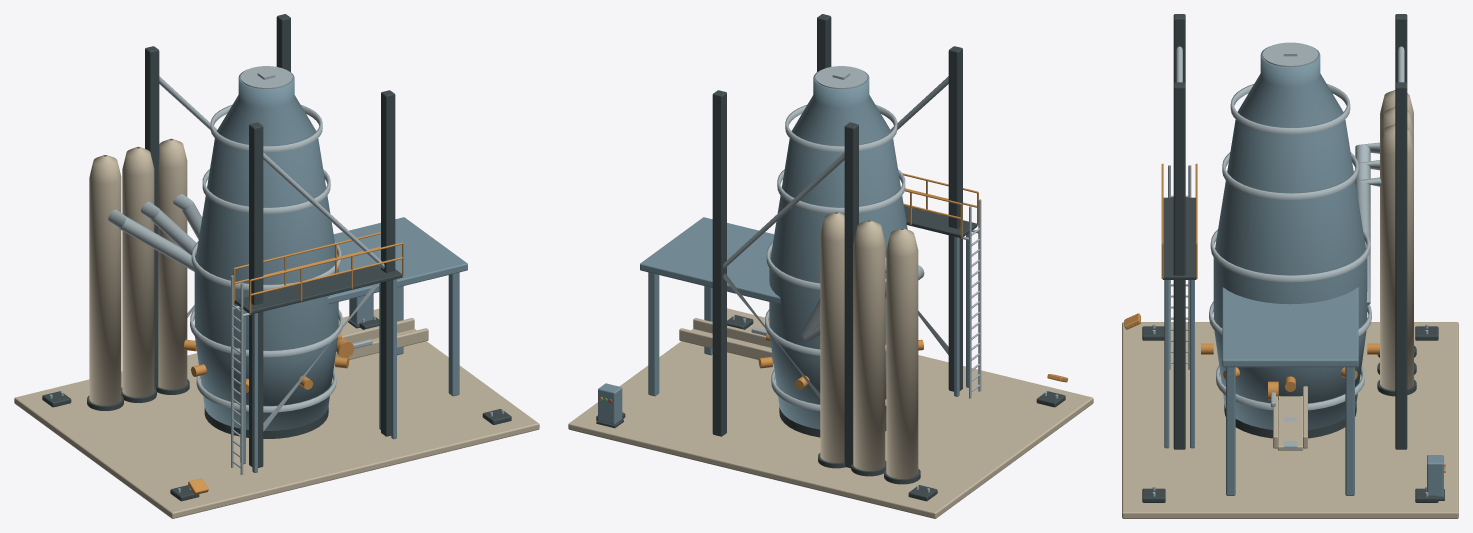
3 renders of one model, left to right at view 1: azimuth 30°, elevation 25°; view 2: azimuth 150°, elevation 25°; view 3: azimuth 270°, elevation 25°, orthographic. The views are drawn at different scales.
Parts seen in each view (by area): view 1: foundation, furnace_shell, hot_blast_stove_0, hot_blast_stove_1, hot_blast_stove_2, cast_house_roof, tower_leg_1.7_2.6, tower_leg_-2.1_2.6, furnace_gallery_deck, tower_leg_-2.1_-2.6, tower_cross_2.6, cast_house_post_1.4 (+16 smaller); view 2: foundation, furnace_shell, hot_blast_stove_0, hot_blast_stove_1, hot_blast_stove_2, cast_house_roof, tower_leg_1.7_-2.6, tower_leg_-2.1_2.6, tower_leg_-2.1_-2.6, cast_house_post_-1.4, tower_cross_-2.6, shell_band_8 (+10 smaller); view 3: foundation, furnace_shell, cast_house_roof, hot_blast_stove_2, tower_leg_1.7_-2.6, tower_leg_1.7_2.6, furnace_gallery_deck, shell_band_4.4, shell_band_8, cast_house_post_-1.4, cast_house_post_1.4, shell_band_6.4 (+14 smaller).
Boxes of the visible parts, left/top/right/bottom form: foundation: left=14, top=309, right=539, bottom=518; furnace_shell: left=194, top=70, right=338, bottom=430; hot_blast_stove_0: left=89, top=155, right=121, bottom=405; hot_blast_stove_1: left=122, top=146, right=154, bottom=397; hot_blast_stove_2: left=158, top=138, right=187, bottom=389; cast_house_roof: left=327, top=217, right=467, bottom=304; tower_leg_1.7_2.6: left=381, top=90, right=395, bottom=436; tower_leg_-2.1_2.6: left=249, top=122, right=263, bottom=467; furnace_gallery_deck: left=234, top=265, right=402, bottom=314; tower_leg_-2.1_-2.6: left=145, top=46, right=159, bottom=388; tower_cross_2.6: left=263, top=152, right=384, bottom=431; cast_house_post_1.4: left=448, top=272, right=459, bottom=396; foundation: left=568, top=308, right=1093, bottom=518; furnace_shell: left=769, top=70, right=907, bottom=429; hot_blast_stove_0: left=886, top=228, right=918, bottom=478; hot_blast_stove_1: left=853, top=220, right=885, bottom=470; hot_blast_stove_2: left=820, top=212, right=844, bottom=462; cast_house_roof: left=640, top=217, right=780, bottom=304; tower_leg_1.7_-2.6: left=712, top=90, right=726, bottom=436; tower_leg_-2.1_2.6: left=948, top=46, right=962, bottom=391; tower_leg_-2.1_-2.6: left=844, top=122, right=858, bottom=468; cast_house_post_-1.4: left=648, top=272, right=659, bottom=396; tower_cross_-2.6: left=723, top=152, right=844, bottom=398; shell_band_8: left=785, top=104, right=897, bottom=152; foundation: left=1122, top=322, right=1458, bottom=518; furnace_shell: left=1213, top=46, right=1367, bottom=429; cast_house_roof: left=1222, top=287, right=1358, bottom=367; hot_blast_stove_2: left=1380, top=124, right=1413, bottom=390; tower_leg_1.7_-2.6: left=1395, top=82, right=1407, bottom=449; tower_leg_1.7_2.6: left=1173, top=82, right=1185, bottom=449; furnace_gallery_deck: left=1162, top=197, right=1196, bottom=279; shell_band_4.4: left=1210, top=229, right=1370, bottom=282; shell_band_8: left=1230, top=84, right=1350, bottom=134; cast_house_post_-1.4: left=1345, top=367, right=1354, bottom=495; cast_house_post_1.4: left=1226, top=367, right=1235, bottom=495; shell_band_6.4: left=1222, top=152, right=1358, bottom=199.
Size of the model in its own units: 10.6 by 9.6 by 7.9.
